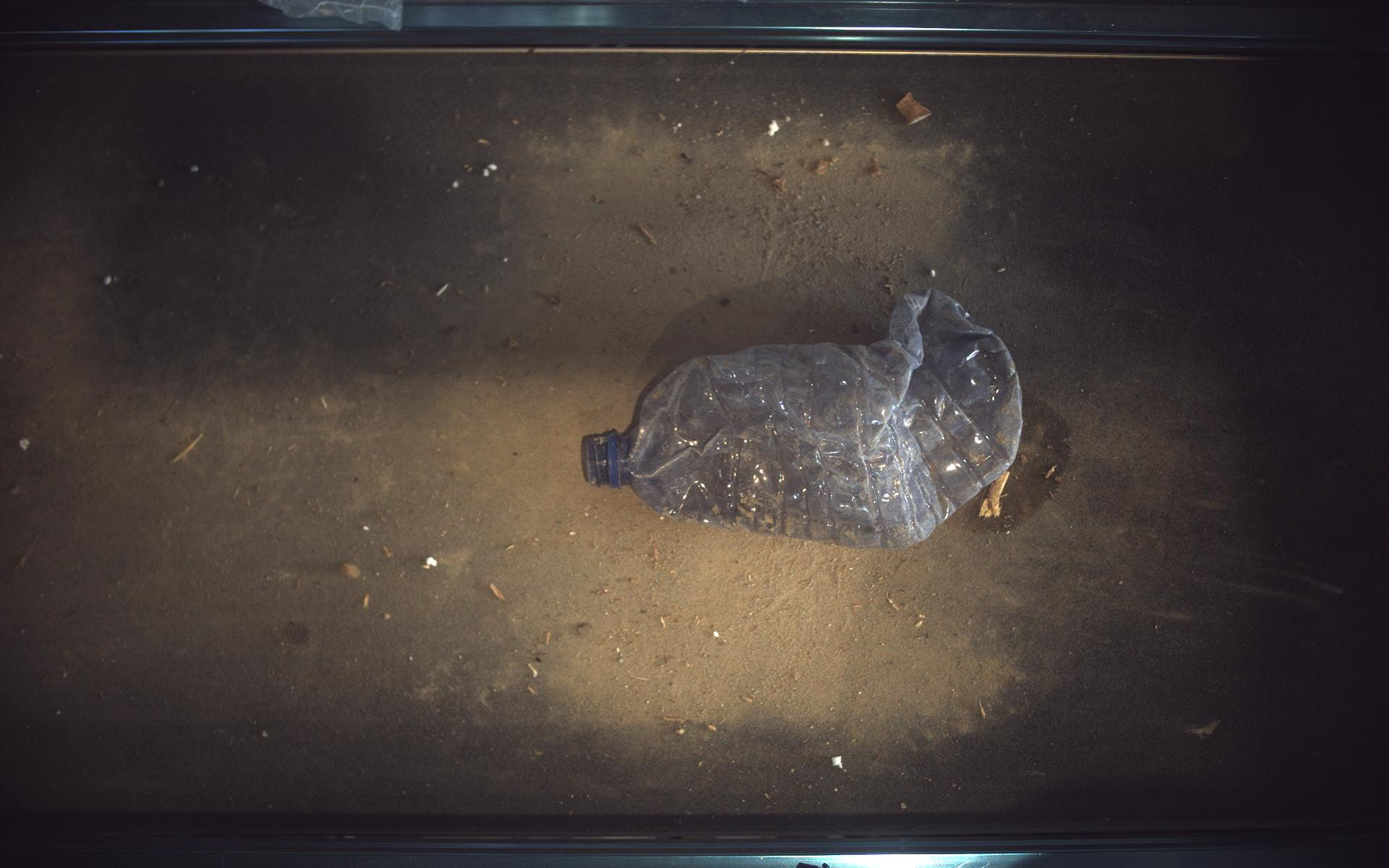general_w: (583, 289, 1024, 548)
